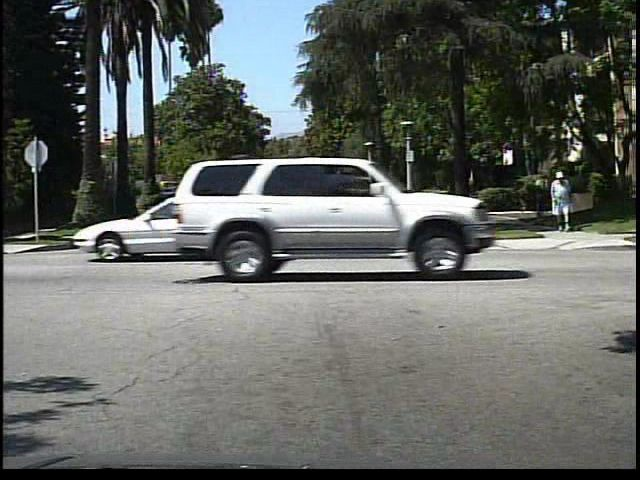person: (546, 167, 577, 242)
